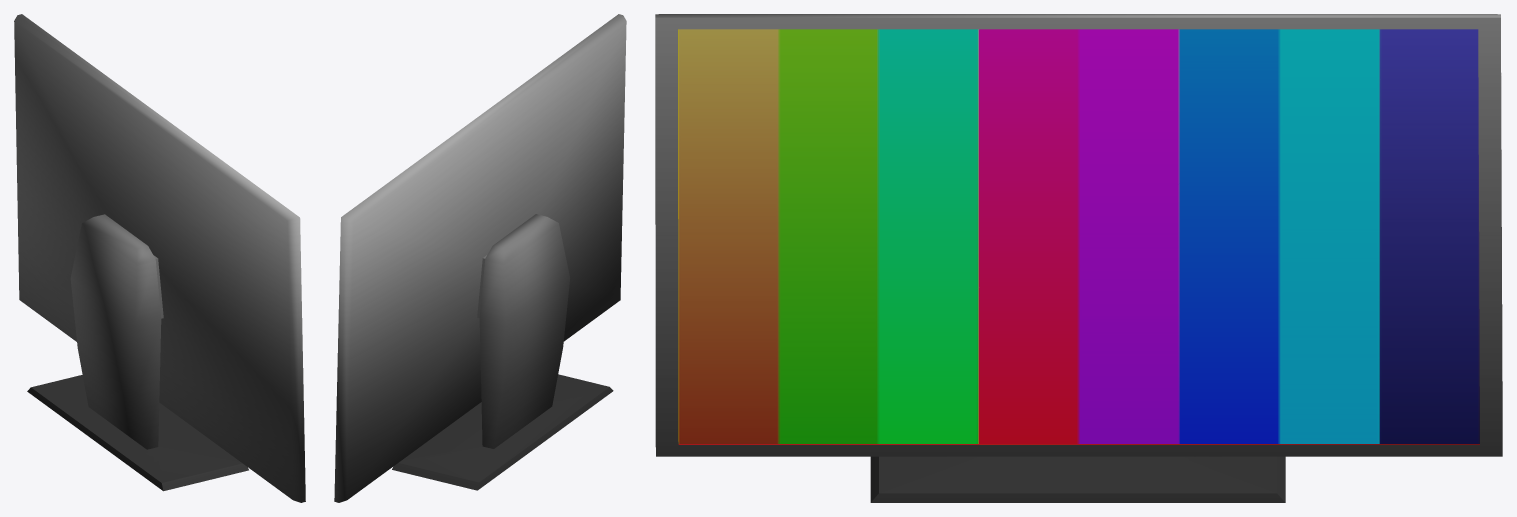
Rendered from SM_Television.fbx.
The picture shows the model from 3 angles, left to right: view 1: azimuth 30°, elevation 25°; view 2: azimuth 150°, elevation 25°; view 3: azimuth 270°, elevation 25°; orthographic projection. The views are drawn at different scales.
Visible parts, largest first — view 1: Television; view 2: Television; view 3: Television.
Part boxes in pixels (<box>): Television: <box>14,14,305,502</box>; Television: <box>334,14,626,502</box>; Television: <box>655,14,1502,502</box>.
Bounding box in the file's own units: 39.77 × 137 × 224.
